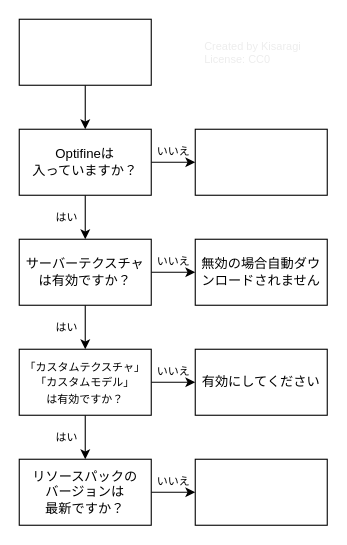
Some shapes in this 347 by 545 pixel diagram are drawn without their labels. The centre of each missing label's shape, as x and y in pixels:
"カスタムテクスチャ カスタムモデル これらはOptifineを 入れないと使えません" goes at point (260, 161).
"スタート" goes at point (84, 51).
"最新版に更新 してください" goes at point (260, 491).
